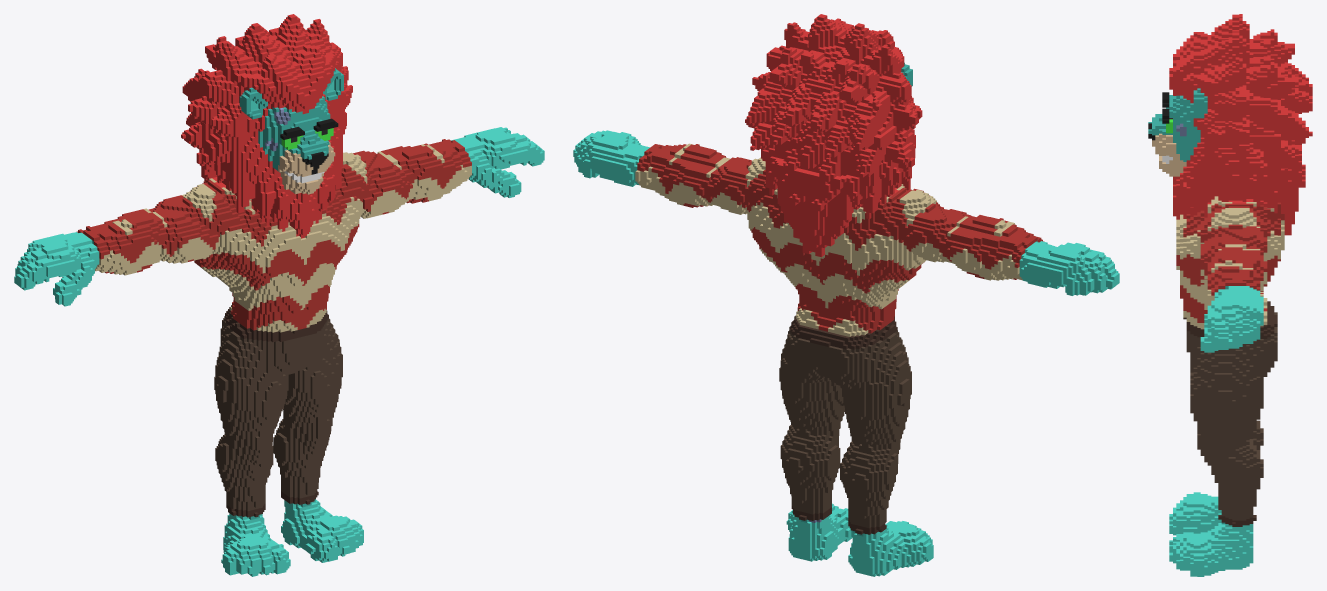
3 views of the same model, side by side, from view 1: azimuth 30°, elevation 25°; view 2: azimuth 150°, elevation 25°; view 3: azimuth 270°, elevation 25° (orthographic). The views are drawn at different scales.
Parts seen in each view (by area): view 1: big_smile; view 2: big_smile; view 3: big_smile.
Part boxes in pixels (<box>): big_smile: <box>14,14,544,576</box>; big_smile: <box>573,14,1119,576</box>; big_smile: <box>1148,14,1312,576</box>.
Bounding box in the file's own units: 17.2 × 16.5 × 4.7.
Materials: 5 (5 with a texture image).
